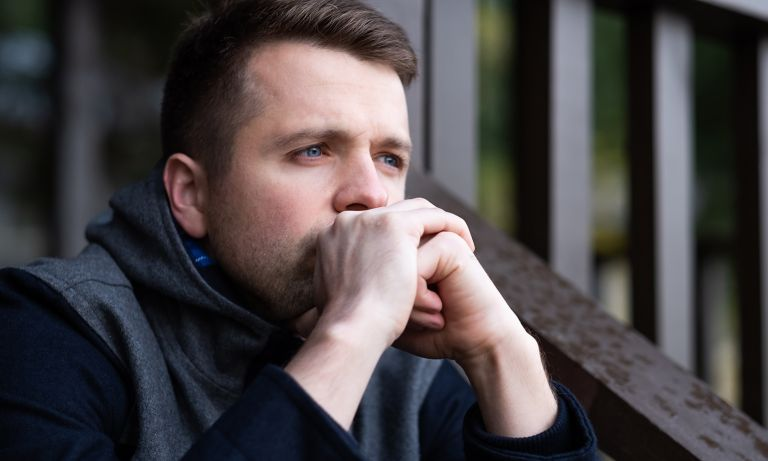Without Helmet: (154, 1, 444, 333)
